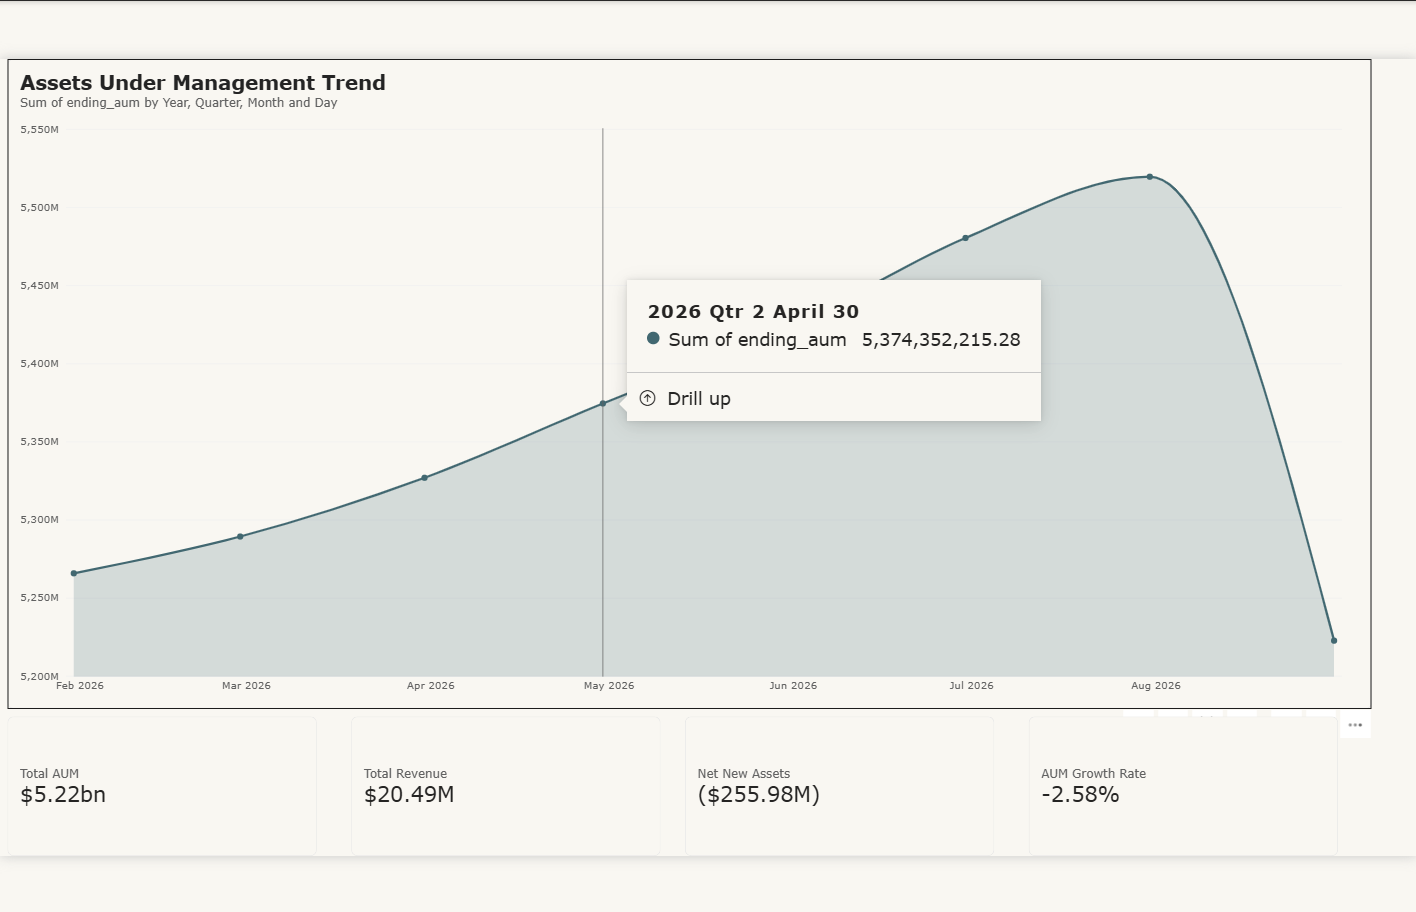

This screenshot's page, from the dashboard's own definition file:
{"tool":"powerbi","page":{"name":"Executive Overview","canvas":[1920,1080],"ordinal":0},"visuals":[{"type":"lineChart","title":"Assets Under Management Trend","fields":{"Category":["firm_kpis.month_end_date.Variation.Date Hierarchy.Year","firm_kpis.month_end_date.Variation.Date Hierarchy.Quarter","firm_kpis.month_end_date.Variation.Date Hierarchy.Month","firm_kpis.month_end_date.Variation.Date Hierarchy.Day"],"Y":["Sum(firm_kpis.ending_aum)"]},"box":[10.1,0,1848.7,880.1],"z":0},{"type":"cardVisual","fields":{"Data":["firm_kpis.Total AUM"]},"box":[10.1,890.2,419.8,189.7],"z":1},{"type":"cardVisual","fields":{"Data":["firm_kpis.Total Revenue"]},"box":[475.5,890.2,419.8,189.7],"z":2},{"type":"cardVisual","fields":{"Data":["firm_kpis.Net New Assets"]},"box":[928.2,890.2,419.8,189.7],"z":3},{"type":"cardVisual","fields":{"Data":["firm_kpis.AUM Growth Rate"]},"box":[1393.5,890.2,419.8,189.7],"z":4}]}

Visuals, with their boxes on the page's 1920x1080 design canvas (x1, y1, x2, y2). These are canvas units, not pixel positions in the 1416x912 screenshot, which may show the page scaled, cropped or inside an application window:
"Assets Under Management Trend" lineChart: BBox(10, 0, 1859, 880)
cardVisual - firm_kpis.Total AUM: BBox(10, 890, 430, 1080)
cardVisual - firm_kpis.Total Revenue: BBox(476, 890, 895, 1080)
cardVisual - firm_kpis.Net New Assets: BBox(928, 890, 1348, 1080)
cardVisual - firm_kpis.AUM Growth Rate: BBox(1394, 890, 1813, 1080)
